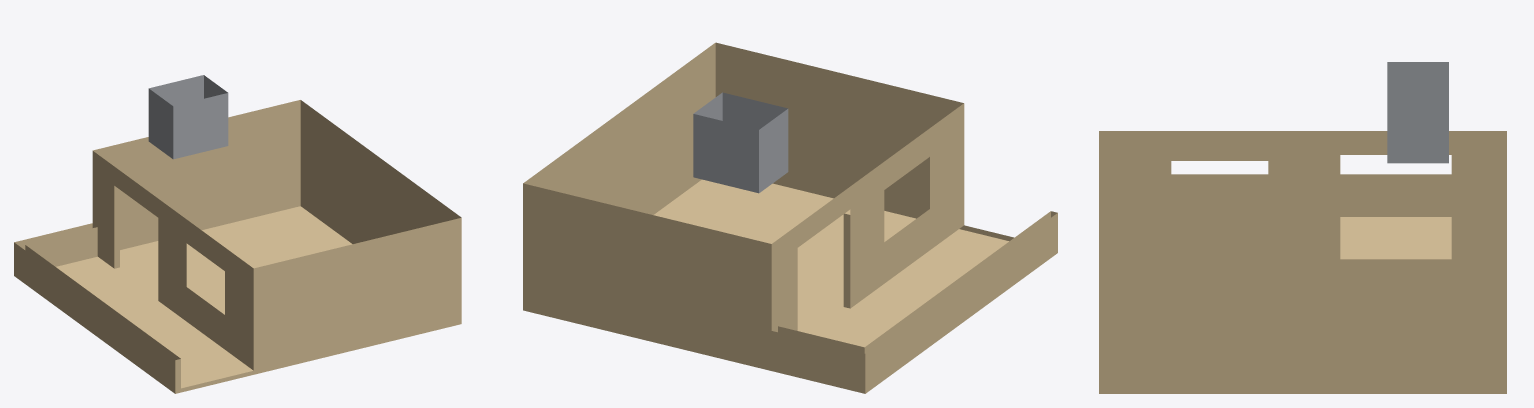
The model's file is Bld_R_high_L2_B.fbx.
The picture shows the model from 3 angles, left to right: view 1: azimuth 30°, elevation 25°; view 2: azimuth 150°, elevation 25°; view 3: azimuth 270°, elevation 25°; orthographic projection. The views are drawn at different scales.
Visible parts, largest first — view 1: Bld_R_high_L2_B_LOD0; view 2: Bld_R_high_L2_B_LOD0; view 3: Bld_R_high_L2_B_LOD0.
Boxes of the visible parts, <box> form: Bld_R_high_L2_B_LOD0: <box>14,75,461,393</box>; Bld_R_high_L2_B_LOD0: <box>523,42,1057,393</box>; Bld_R_high_L2_B_LOD0: <box>1099,62,1506,393</box>.
Size of what is drawn, in the model's own units: 1400 by 1119 by 1400.
1 material, 1 textured.
